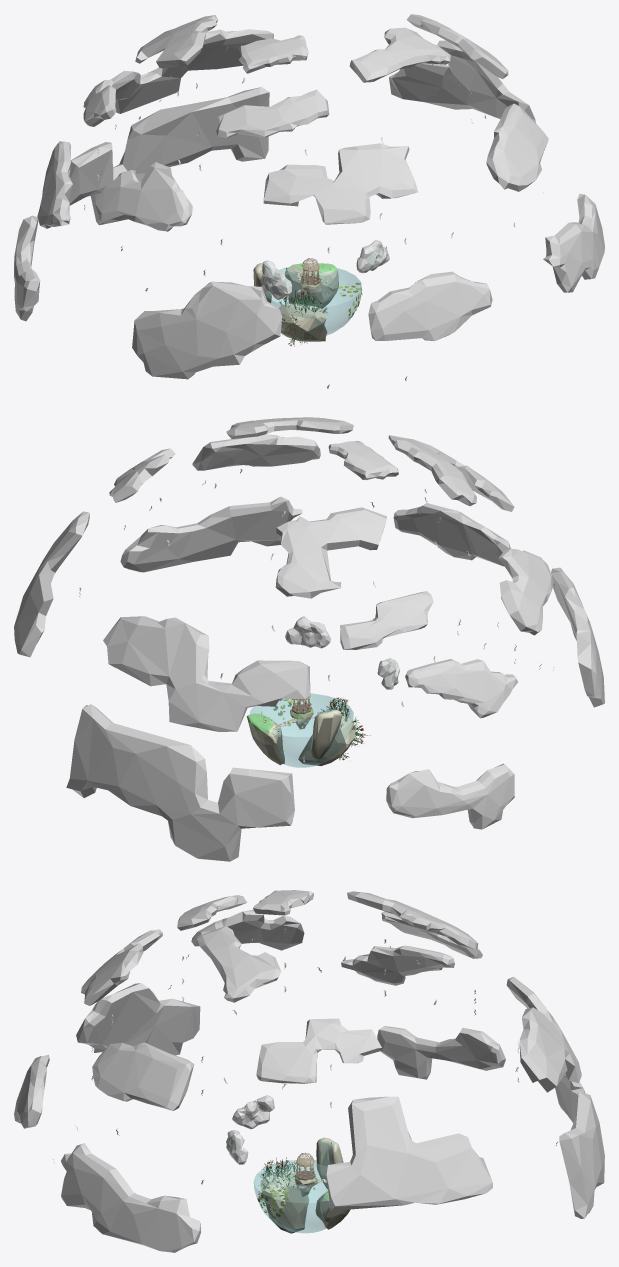
The model's file is ITS ALIVE.fbx.
3 views of the same model, one above another, from view 1: azimuth 30°, elevation 25°; view 2: azimuth 150°, elevation 25°; view 3: azimuth 270°, elevation 25° (orthographic). The views are drawn at different scales.
Parts seen in each view (by area): view 1: pSphere1, polySurface4, cloud3, cloud4; view 2: pSphere1, polySurface4, cloud4; view 3: pSphere1, polySurface4, cloud3, cloud4.
Part boxes in pixels (bbox=[...]): pSphere1: bbox=[14, 14, 604, 379]; polySurface4: bbox=[253, 82, 459, 346]; cloud3: bbox=[262, 260, 292, 299]; cloud4: bbox=[356, 240, 389, 273]; pSphere1: bbox=[14, 417, 604, 861]; polySurface4: bbox=[124, 525, 370, 767]; cloud4: bbox=[285, 616, 330, 648]; pSphere1: bbox=[14, 890, 604, 1252]; polySurface4: bbox=[253, 1101, 350, 1233]; cloud3: bbox=[232, 1095, 274, 1129]; cloud4: bbox=[226, 1130, 248, 1164].
Bounding box in the file's own units: 133 × 81.24 × 138.
